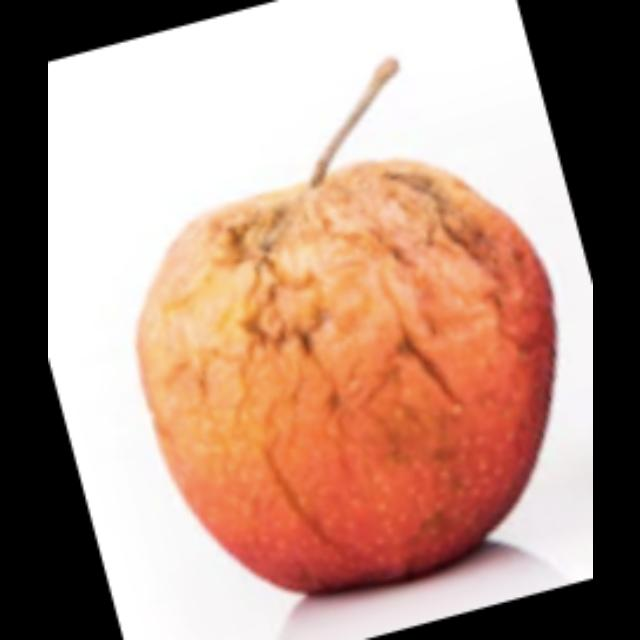Apel Tidak Segar: (123, 146, 575, 610)
